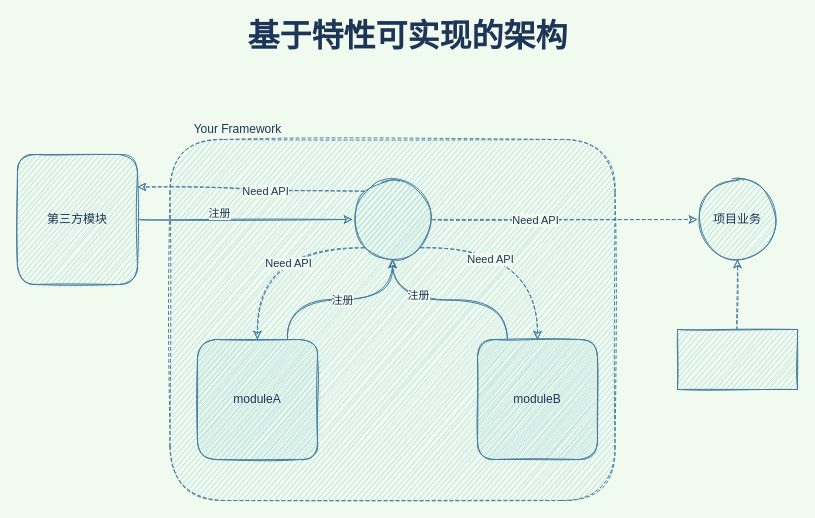
The diagram is 815 pixels wide and 518 high, and some of its shapes have lost their labels. Here are the shapes that lost their labels. From the top down, the centre of each, then its label:
point 392,219: egf-core
point 737,359: other framework
